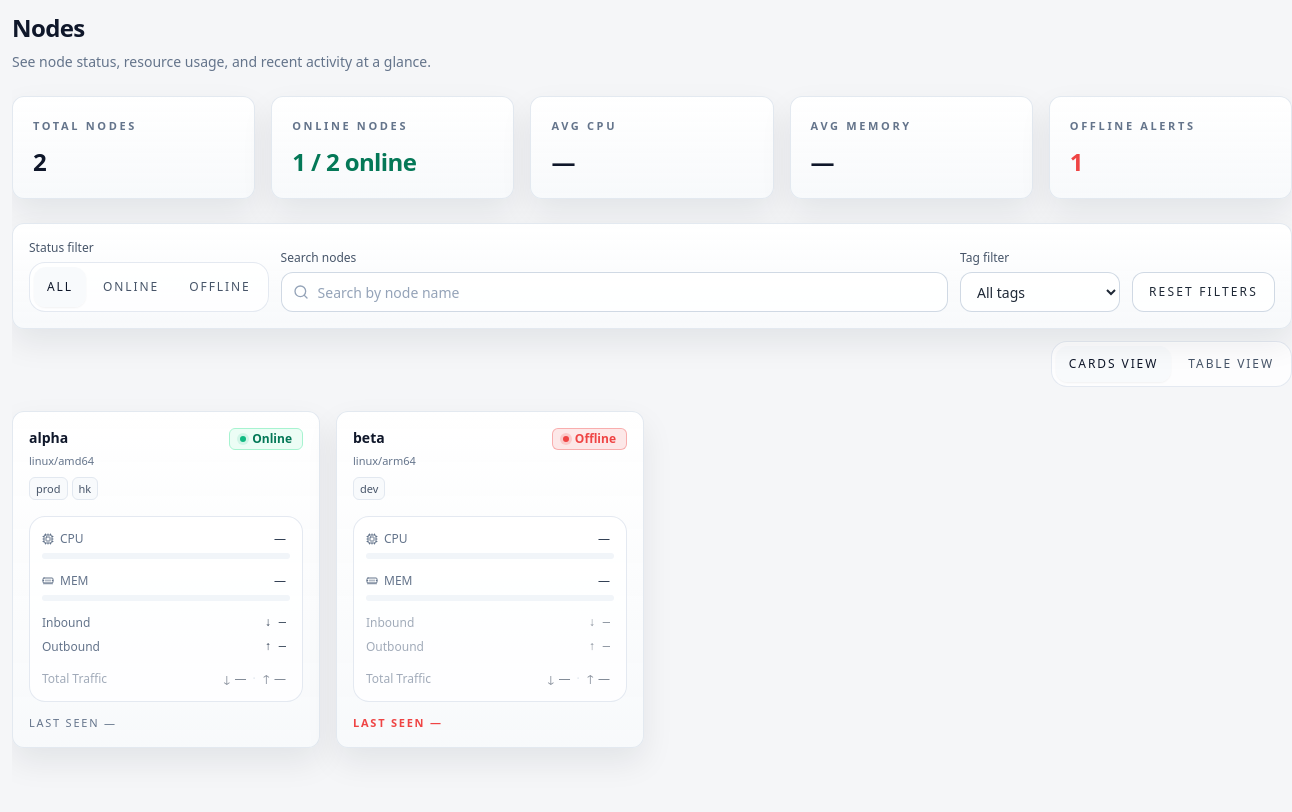
dashboard filtering › shows an empty state when no node matches active filters
expect the text "alpha" is shown: met, box [29, 428, 68, 448]
expect the text "beta" is shown: met, box [353, 428, 385, 448]
Type "zzz" into the field labelled "Search nodes" at {"x": 614, "y": 292}, box [281, 272, 948, 312]
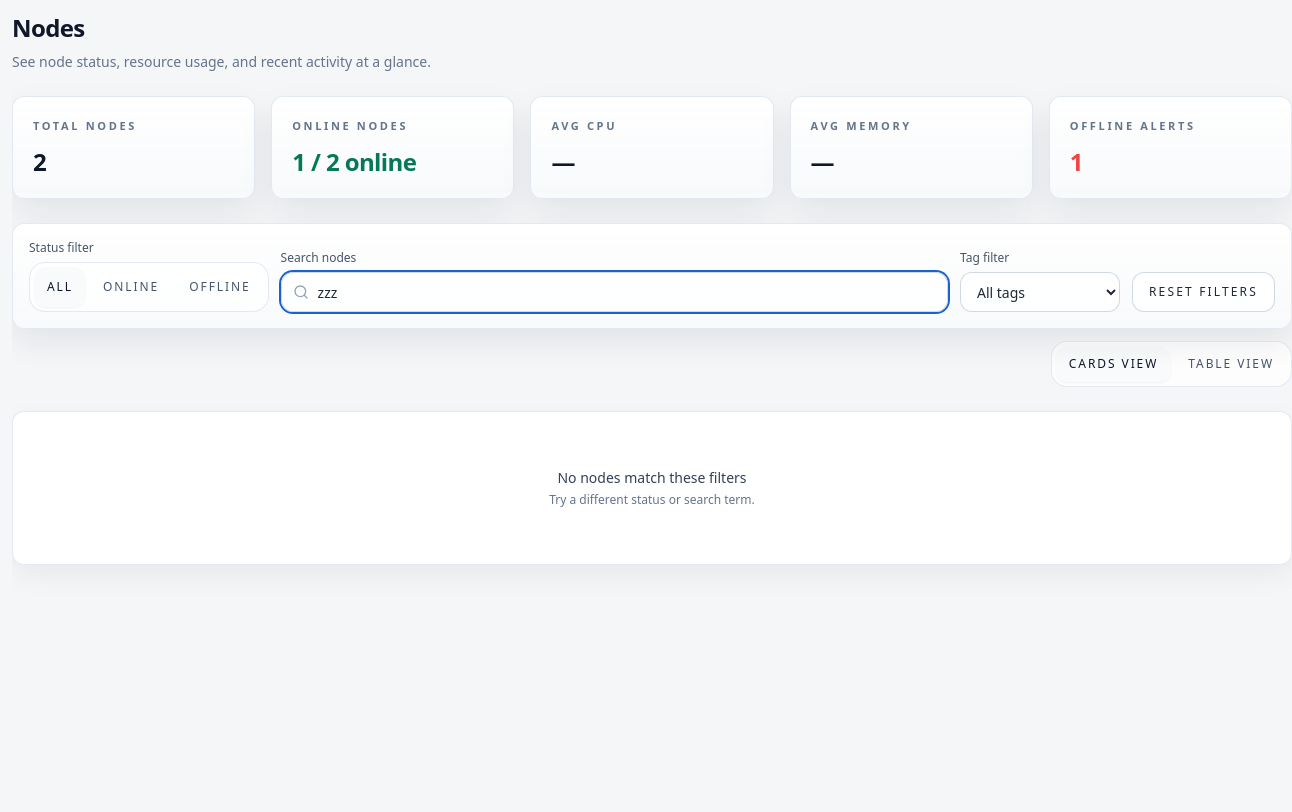
expect the text "No nodes match these filters" is shown: met, box [558, 468, 747, 487]
